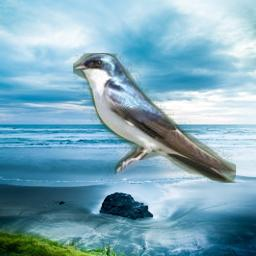Swallow: (73, 53, 236, 183)
